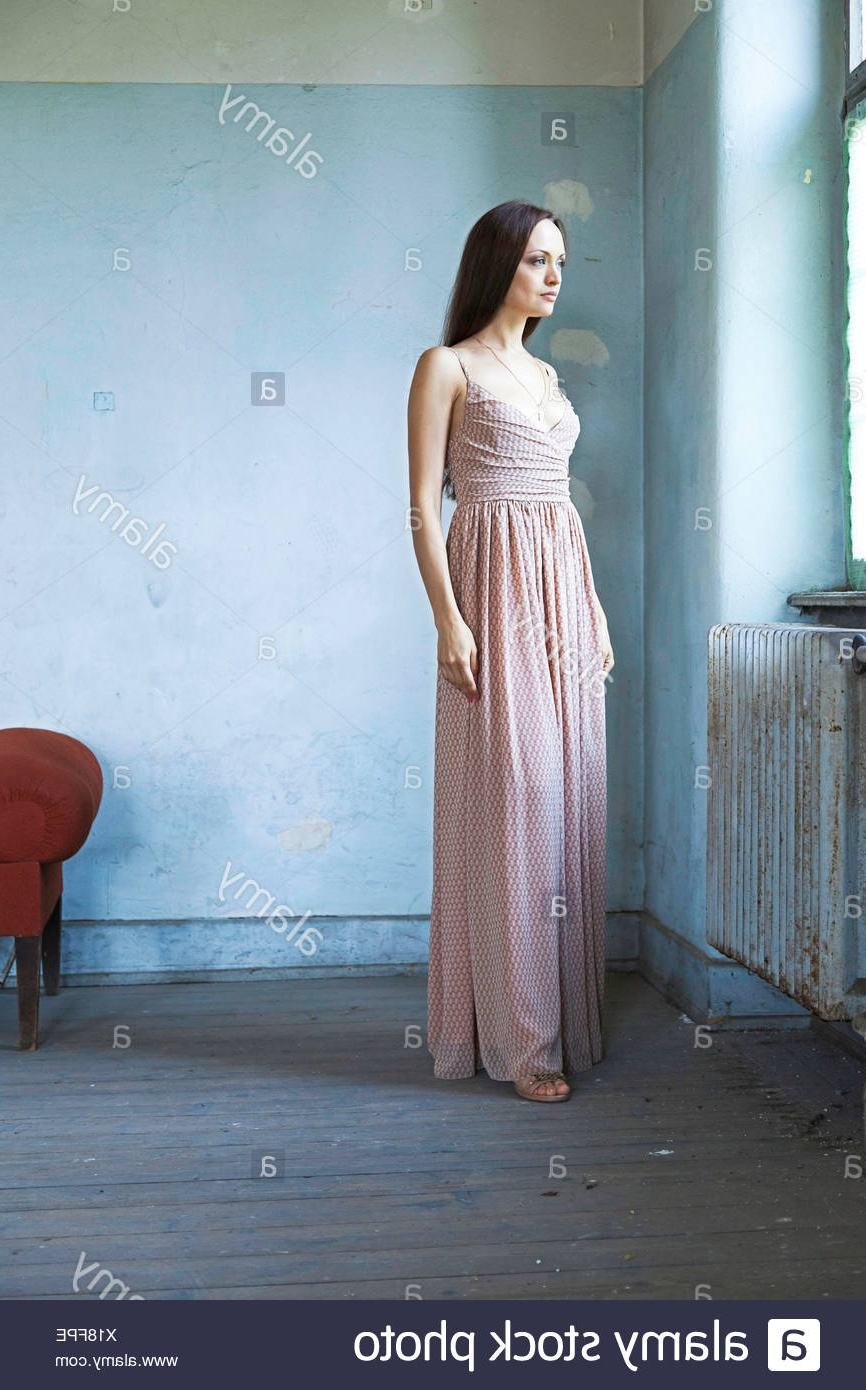not_fallen: (348, 177, 650, 1121)
